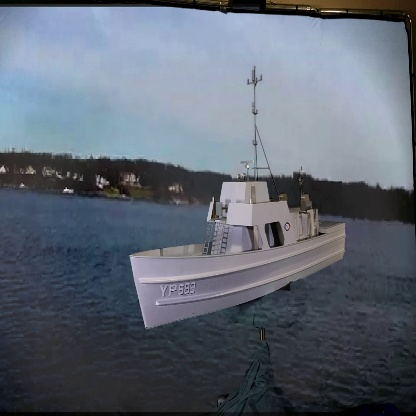YP689: (133, 66, 348, 329)
